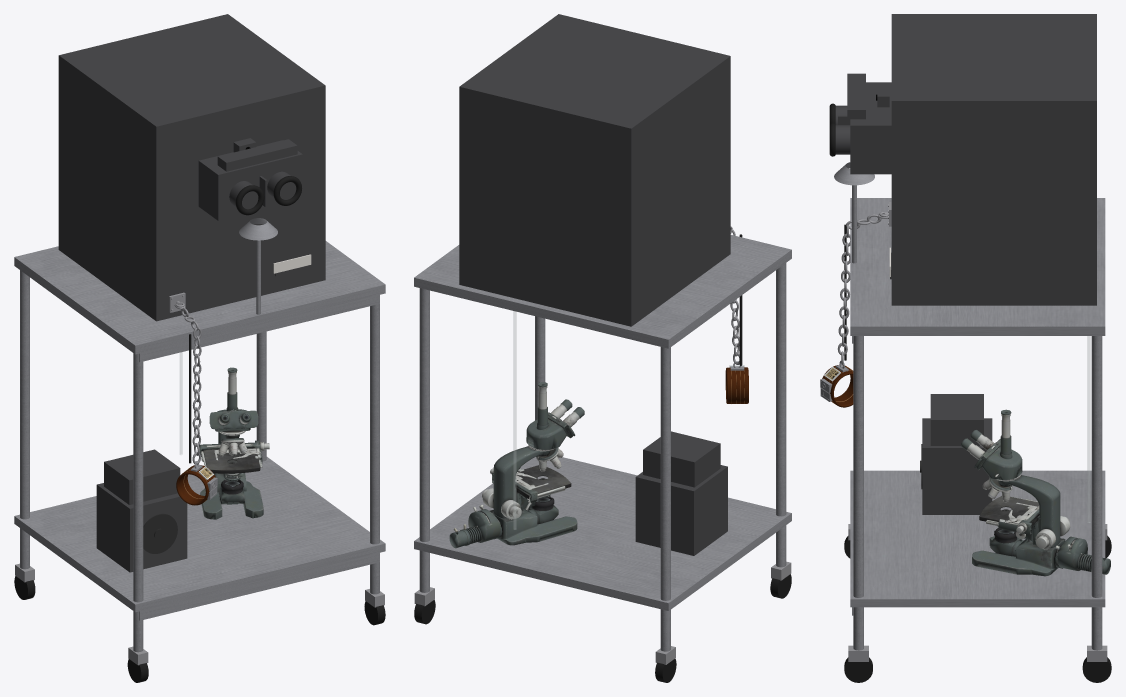
Rendered from agrypnia_estacion.glb.
The picture shows the model from 3 angles, left to right: view 1: azimuth 30°, elevation 25°; view 2: azimuth 150°, elevation 25°; view 3: azimuth 270°, elevation 25°; orthographic projection. The views are drawn at different scales.
Visible parts, largest first — view 1: vitrina, carro, visor, microscopio, bocina, bomba, bocina_cono, carro_ruedas, cadena, mentonera, visor_gomas, vitrina_lado (+2 smaller); view 2: vitrina, carro, microscopio, bocina, bomba, carro_ruedas, tubo_silicona, carro_horquillas, brazalete; view 3: carro, vitrina_lado, vitrina, microscopio, visor, bocina, bomba, carro_ruedas, cadena, mentonera, tubo_silicona, carro_horquillas (+1 smaller).
Boxes of the visible parts, x1,y1,x2,y2 form: vitrina: (58,14,325,321); carro: (14,241,385,652); visor: (198,138,309,276); microscopio: (199,367,269,519); bocina: (96,483,187,572); bomba: (104,449,180,504); bocina_cono: (143,513,177,553); carro_ruedas: (14,576,385,682); cadena: (174,304,201,464); mentonera: (239,218,277,314); visor_gomas: (235,176,301,215); vitrina_lado: (227,14,325,280); vitrina: (459,14,730,326); carro: (414,235,791,651); microscopio: (449,382,584,548); bocina: (635,465,727,555); bomba: (643,431,720,487); carro_ruedas: (414,574,791,682); tubo_silicona: (513,311,516,529); carro_horquillas: (414,561,791,664); brazalete: (725,367,748,403); carro: (850,198,1105,650); vitrina_lado: (891,99,1096,305); vitrina: (891,14,1096,305); microscopio: (961,409,1110,576); visor: (835,73,891,279); bocina: (922,418,992,514); bomba: (930,394,983,445); carro_ruedas: (844,535,1111,682); cadena: (837,214,888,364); mentonera: (834,162,874,263); tubo_silicona: (1087,336,1090,522); carro_horquillas: (848,524,1107,661).
Size of the model in its own units: 0.74 by 1.51 by 0.708.
17 materials, 5 textured.
